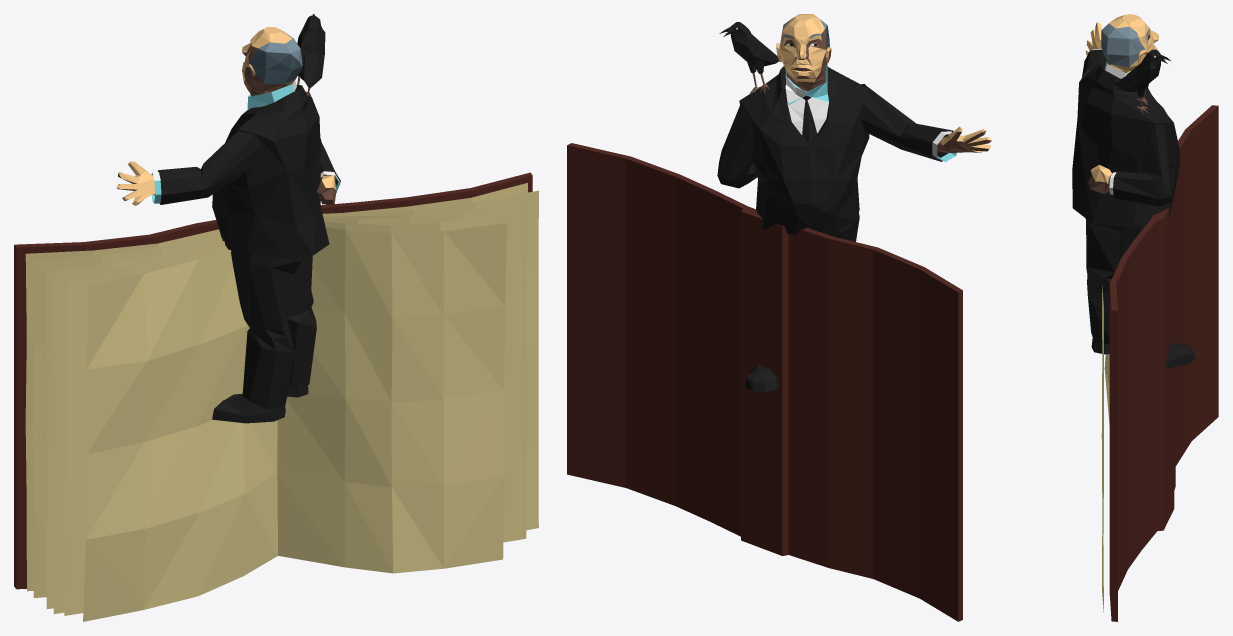
The model's file is cubo7.gltf.
The picture shows the model from 3 angles, left to right: view 1: azimuth 30°, elevation 25°; view 2: azimuth 150°, elevation 25°; view 3: azimuth 270°, elevation 25°; orthographic projection. The views are drawn at different scales.
Visible parts, largest first — view 1: pg.6, group1140142745; view 2: pg.6, group1140142745; view 3: pg.6, group1140142745.
Boxes of the visible parts, bbox=[...] form: pg.6: bbox=[14, 172, 538, 621]; group1140142745: bbox=[116, 14, 340, 423]; pg.6: bbox=[567, 143, 962, 621]; group1140142745: bbox=[717, 14, 991, 391]; pg.6: bbox=[1101, 105, 1218, 621]; group1140142745: bbox=[1072, 14, 1196, 368].
Bounding box in the file's own units: 0.7442 × 0.8325 × 0.2804.
